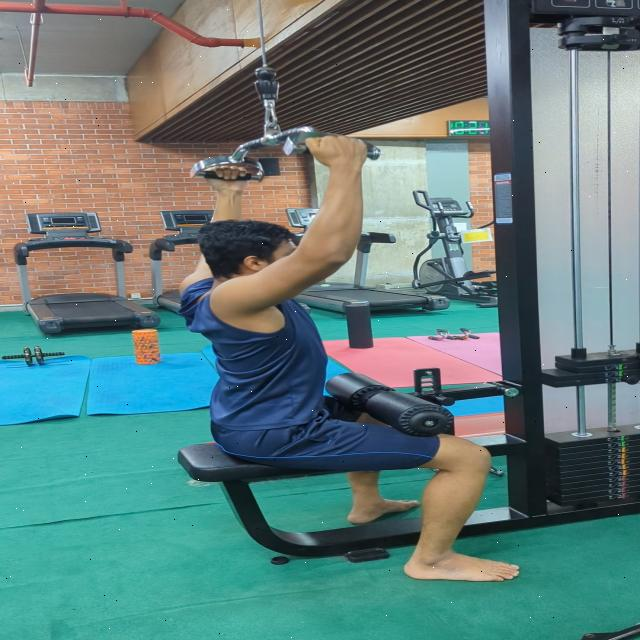Normal_LatPulldown: (137, 126, 528, 586)
